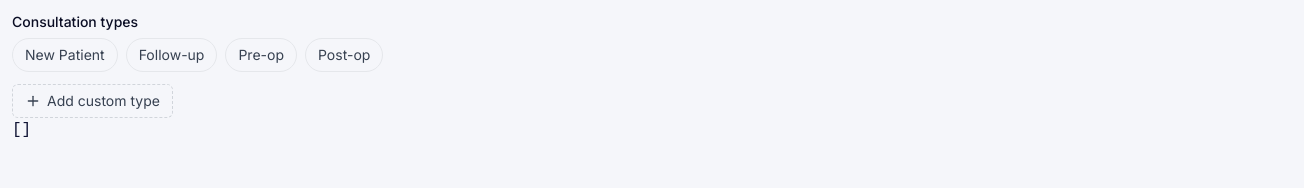
Test case: ConsultationTypesEditor — validation gates › blocks Add for a full-name-shaped label
Click the button "Add custom type" at (92, 101), box [12, 84, 173, 118]
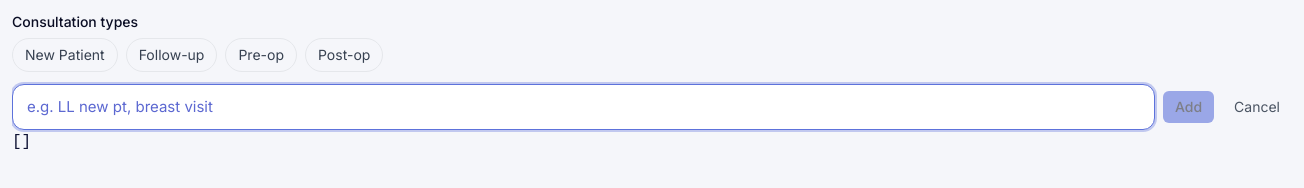
Type "Marie Gdalevitch" into the field named "custom consultation type name" at (583, 107), box [12, 84, 1155, 130]
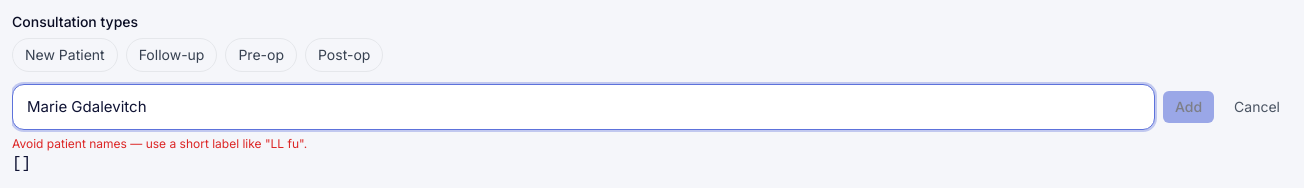
Expected: the button "Add" is disabled, [1163, 91, 1214, 123]
Now the text "Avoid patient names — use a short label like \"LL fu\"." is shown, box [12, 136, 307, 151]
